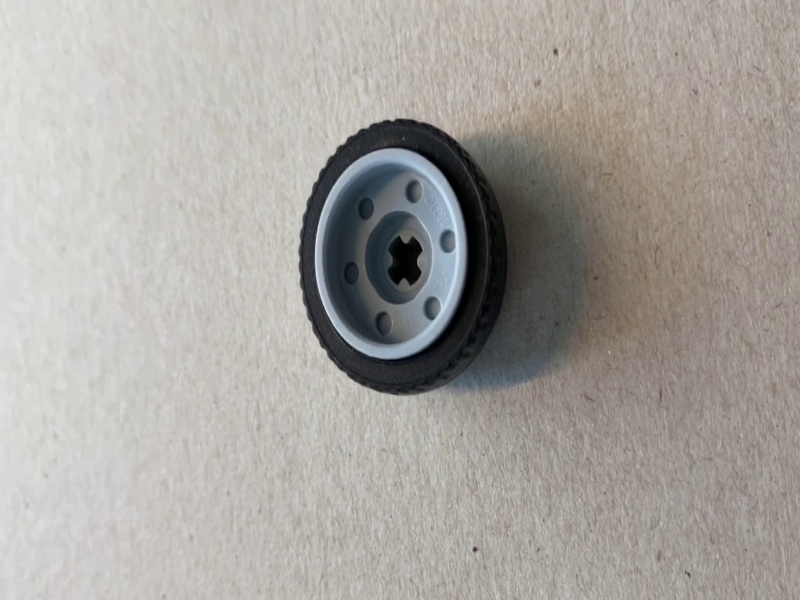tire: (297, 118, 508, 397)
